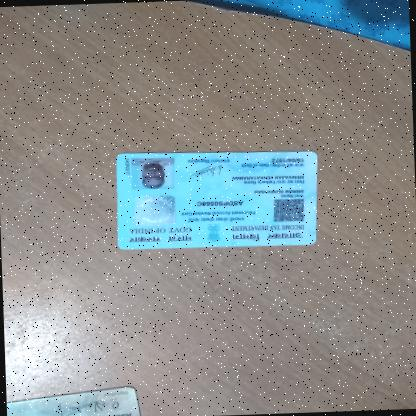pan_card: (112, 142, 325, 265)
